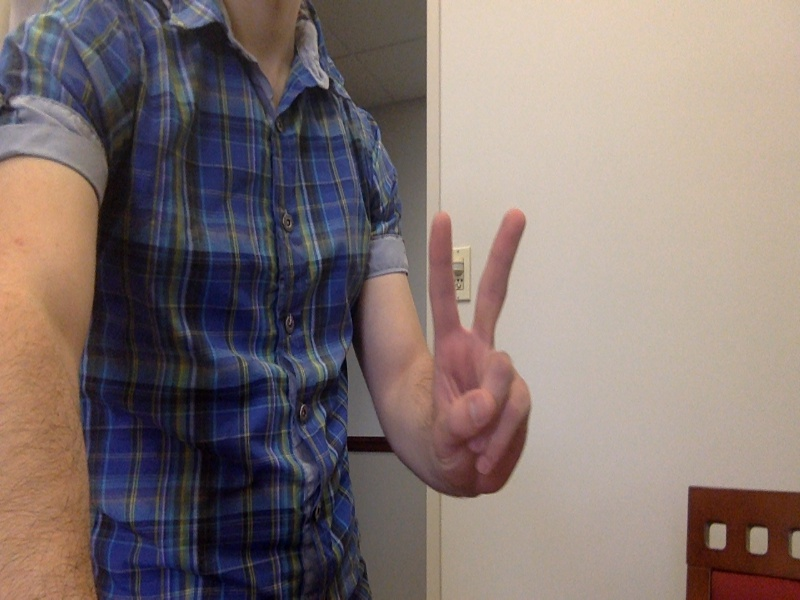2-hand: (421, 210, 536, 503)
